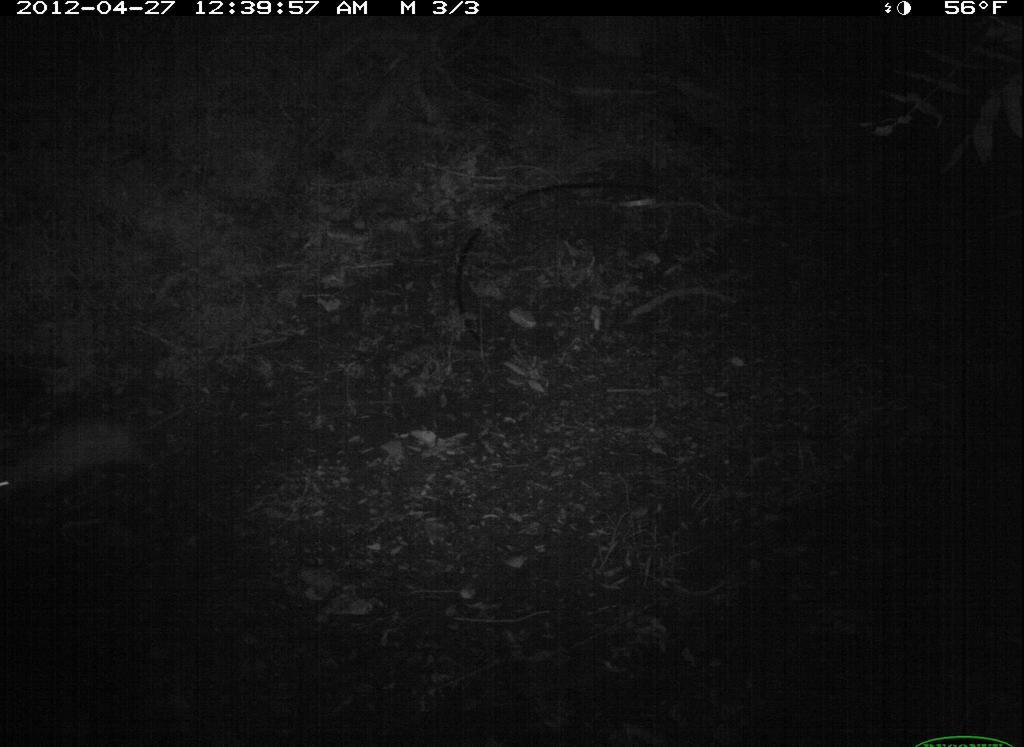opossum: (1, 396, 209, 508)
